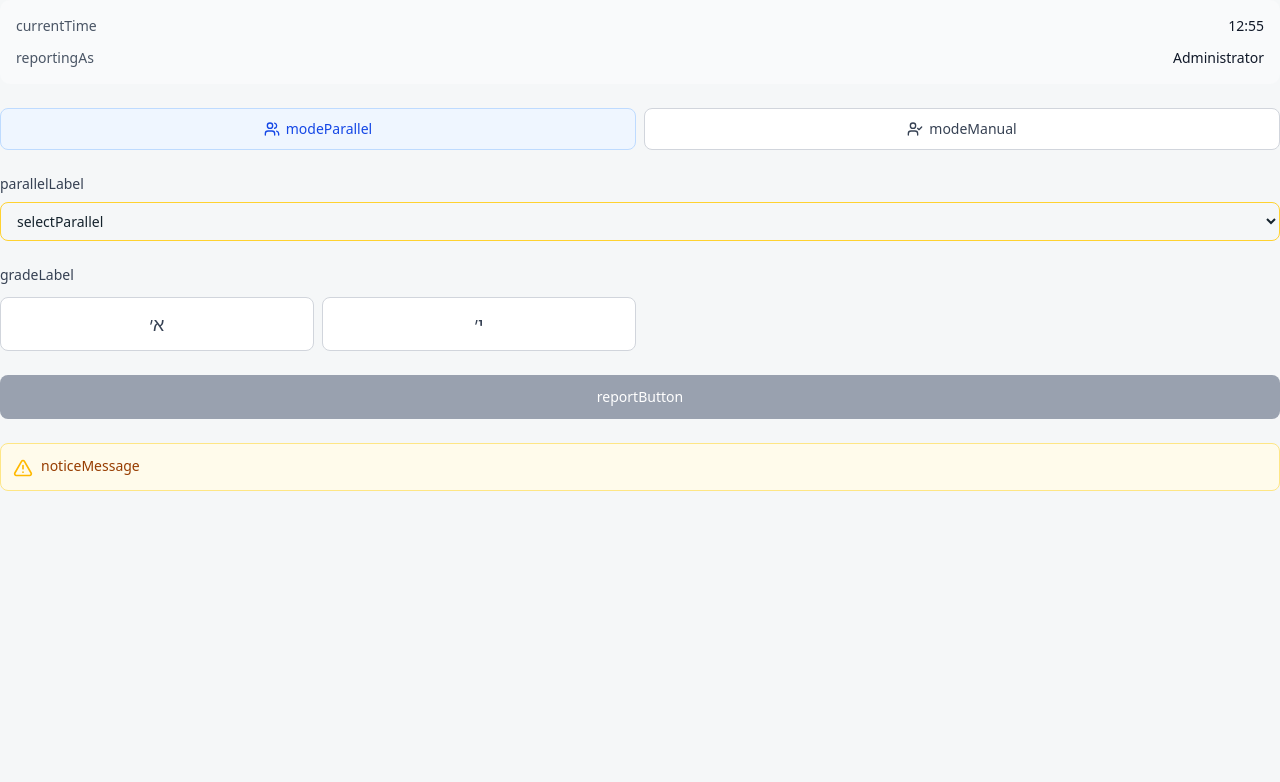
Test case: ManagementReportForm › selects profile and shows time options
Note: Select grade that needs profile
Step 1. Click the button with test id "select-parallel" showing "י׳" → (479, 324), box [322,297,636,351]
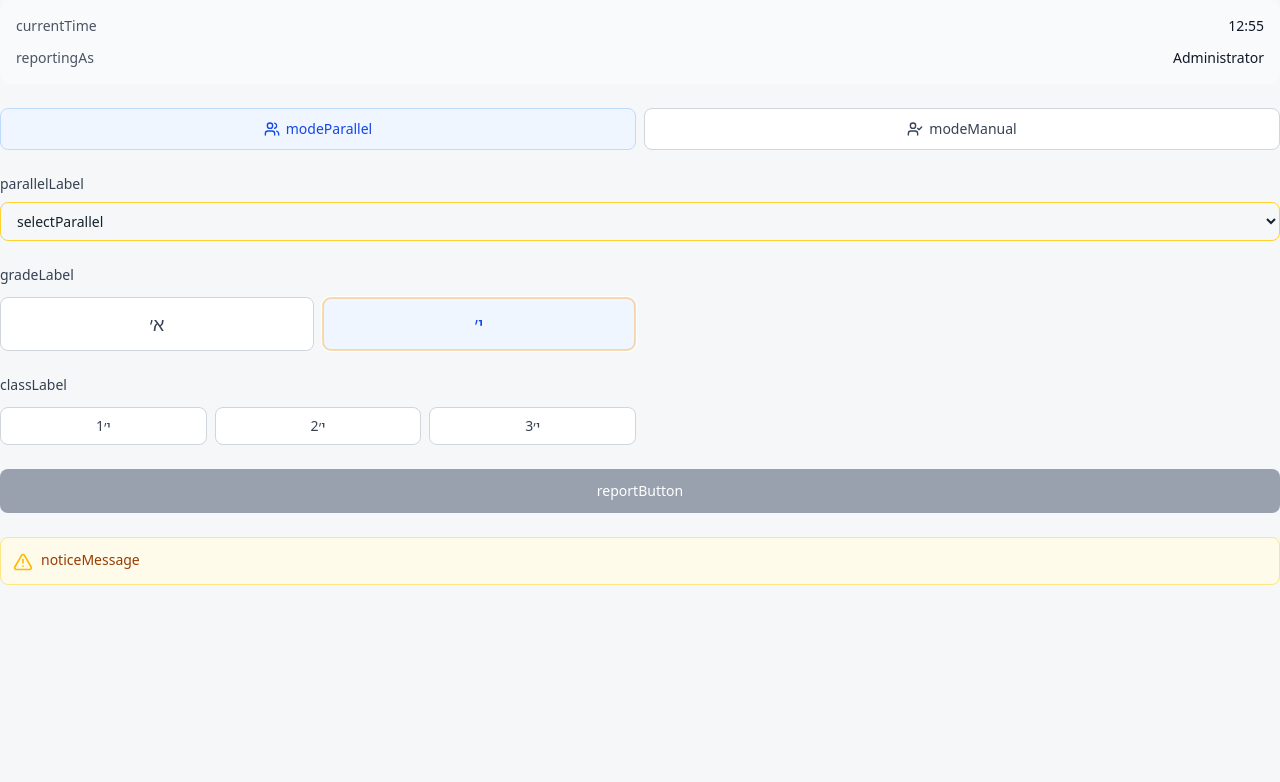
Note: Select class
Step 2. Click the button "י׳1" → (103, 426), box [0,407,207,445]
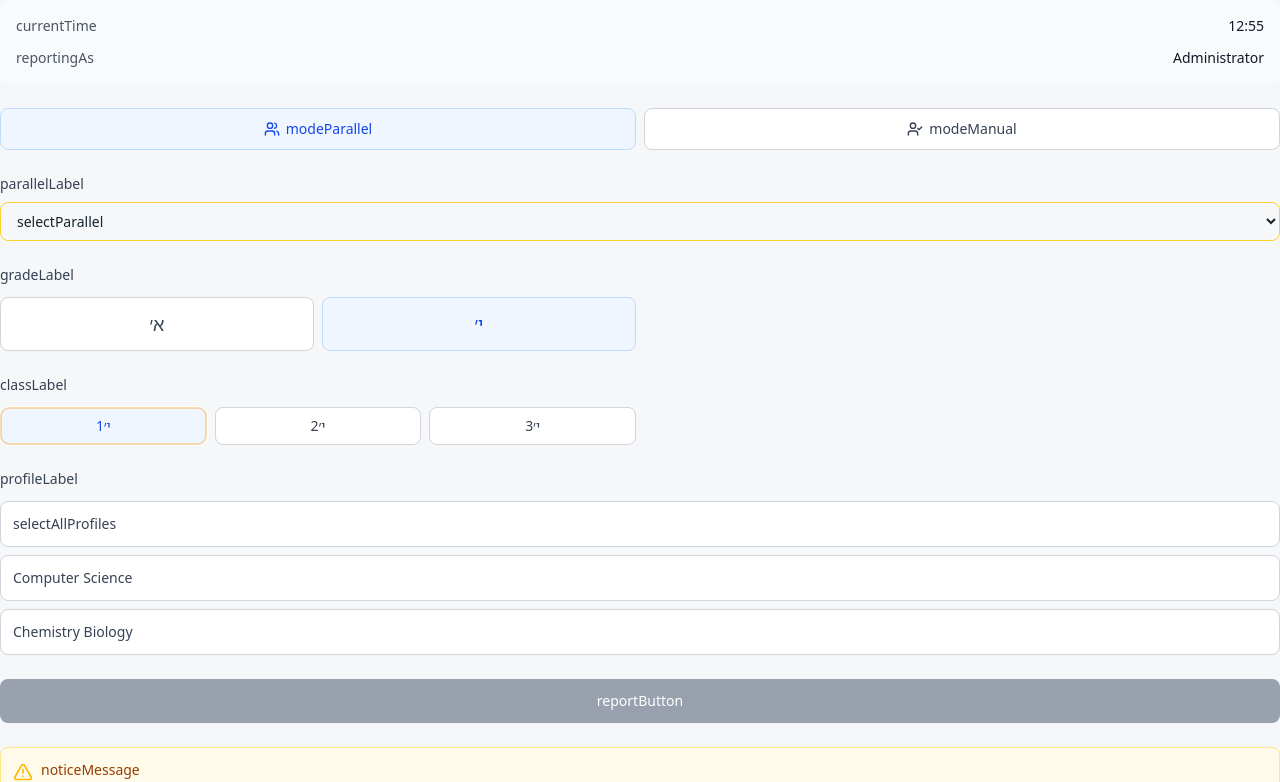
Note: Select profile
Step 3. Click the button with test id "select-profile" → (73, 578), box [0,555,1279,601]
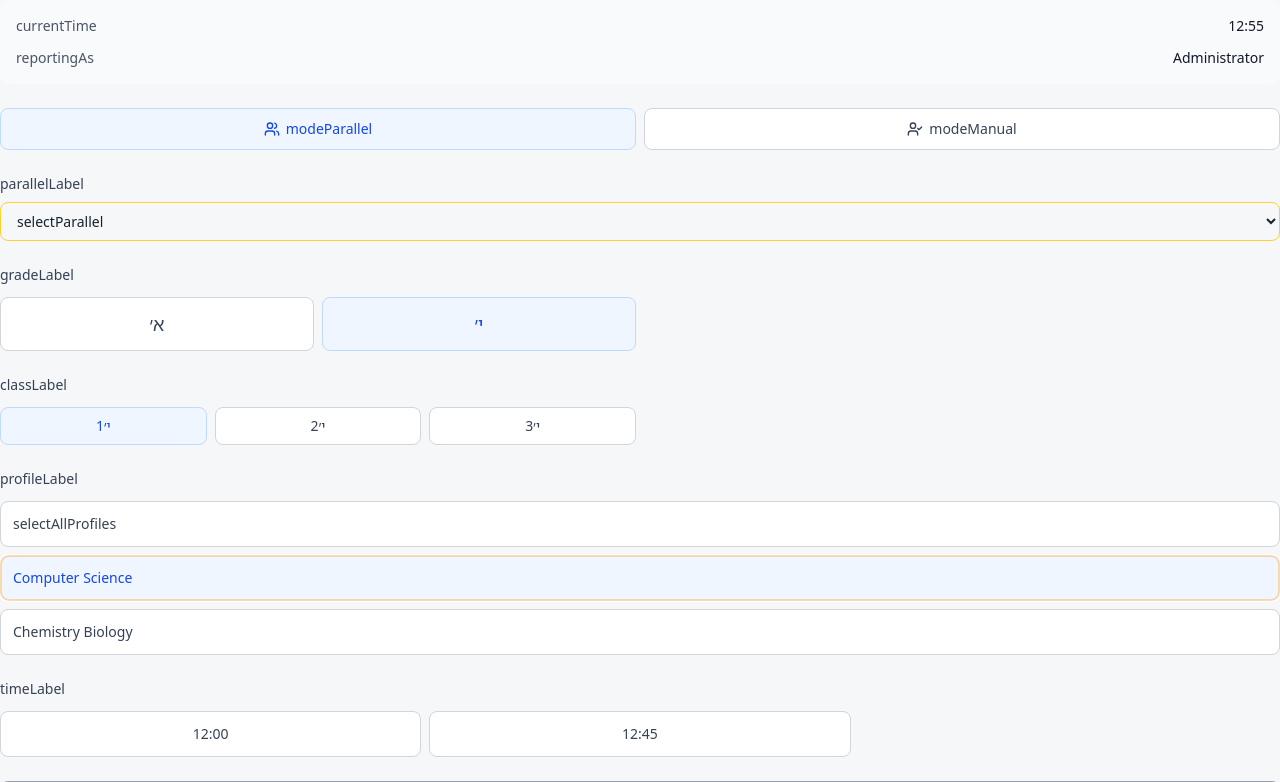
Expected: the text "timeLabel" is shown, [0,679,65,698]
